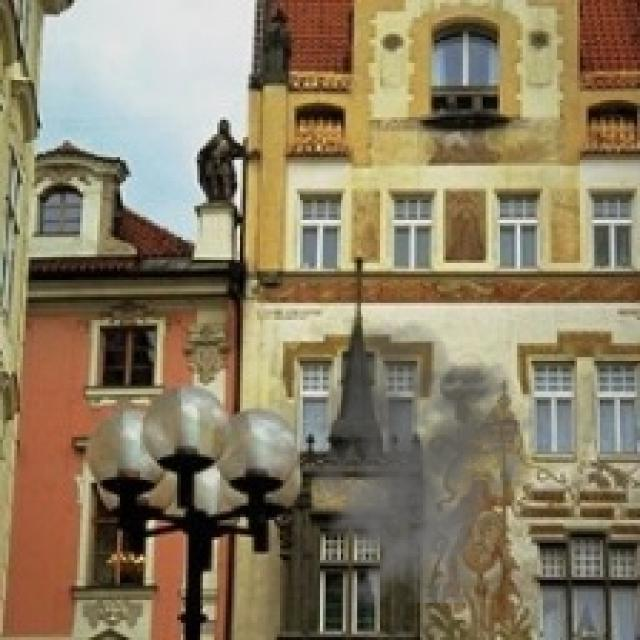Smoke: (282, 320, 538, 603)
